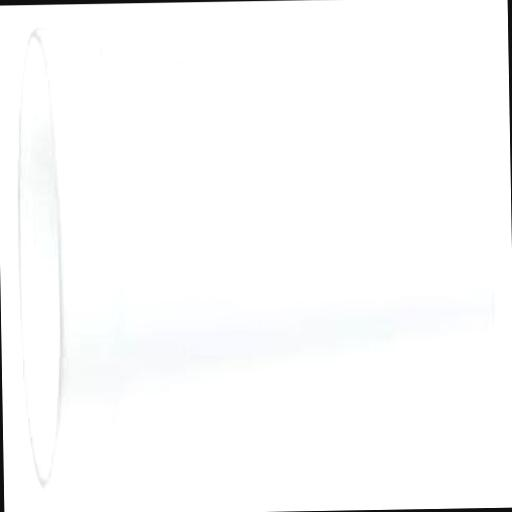paper: (13, 18, 501, 496)
